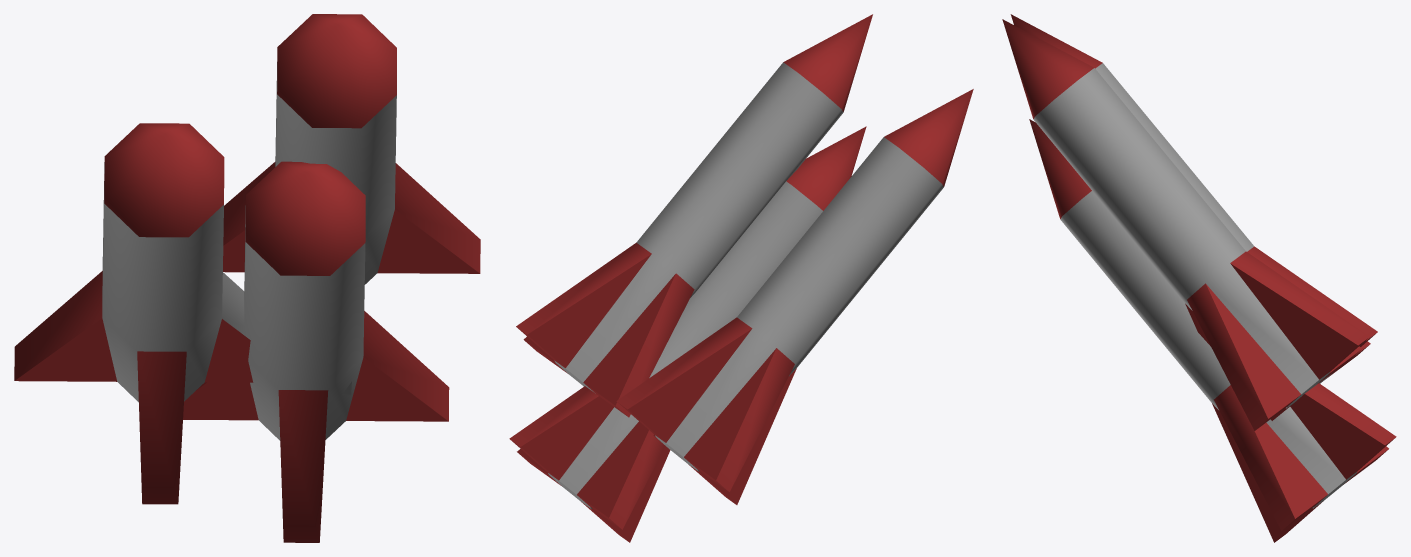
Rendered from Missile.FBX.
The picture shows the model from 3 angles, left to right: view 1: azimuth 30°, elevation 25°; view 2: azimuth 150°, elevation 25°; view 3: azimuth 270°, elevation 25°; orthographic projection. The views are drawn at different scales.
Visible parts, largest first — view 1: Rectangle001; view 2: Rectangle001; view 3: Rectangle001.
Part boxes in pixels (bbox=[...]): Rectangle001: bbox=[14, 14, 480, 542]; Rectangle001: bbox=[509, 14, 973, 542]; Rectangle001: bbox=[1002, 14, 1396, 542].
Size of the model in its own units: 58.55 by 77.38 by 59.7.
